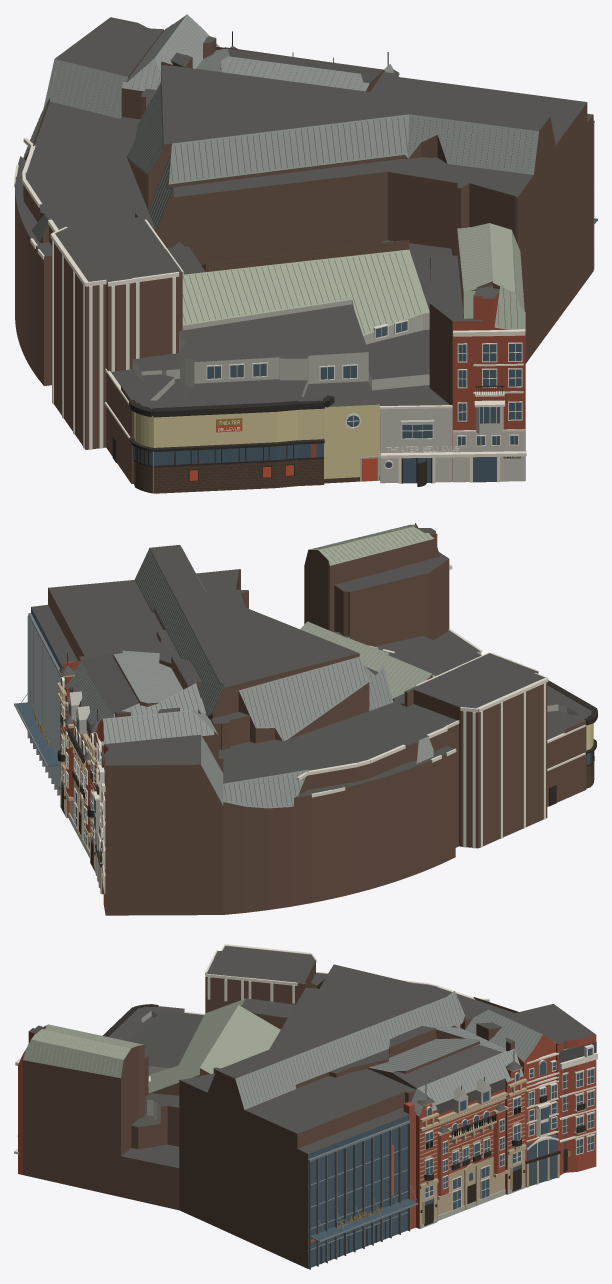
Rendered from delamar.glb.
3 renders of one model, top to bottom at view 1: azimuth 30°, elevation 25°; view 2: azimuth 150°, elevation 25°; view 3: azimuth 270°, elevation 25°, orthographic. The views are drawn at different scales.
Visible parts, largest first — view 1: delamar; view 2: delamar; view 3: delamar.
Part boxes in pixels (box(x1,y1,x2,y2)): delamar: box(14, 14, 597, 493); delamar: box(14, 523, 597, 915); delamar: box(14, 944, 597, 1269).
Bounding box in the file's own units: 64.14 × 22.95 × 76.09.
